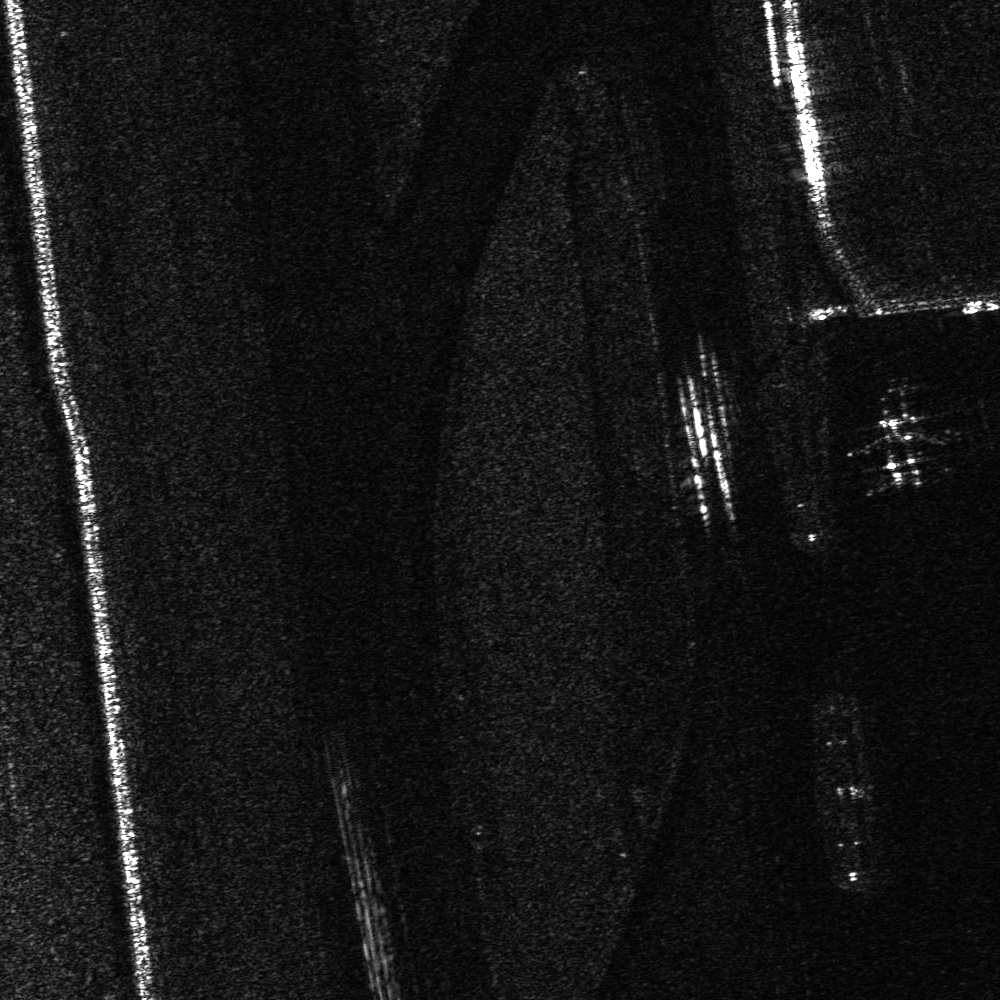A220: (845, 411, 945, 490)
